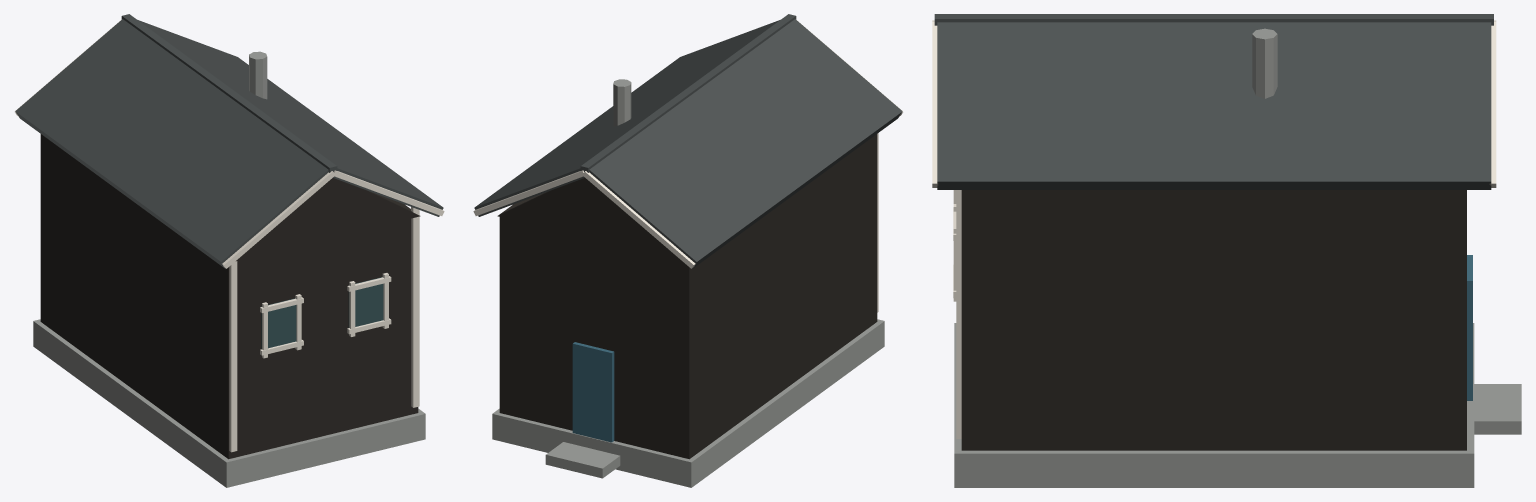
File: norway-house-charcoal-white_lod0.glb
3 renders of one model, left to right at view 1: azimuth 30°, elevation 25°; view 2: azimuth 150°, elevation 25°; view 3: azimuth 270°, elevation 25°, orthographic. The views are drawn at different scales.
Parts seen in each view (by area): view 1: RF_House_Walls, RF_House_RoofA, RF_House_Foundation, RF_House_RoofB, RF_House_Gables, RF_House_RidgeCap, RF_House_Corner.001, RF_House_Corner, RF_House_WindowRecess.001, RF_House_WindowRecess, RF_House_VergeLeftFront, RF_House_Chimney (+1 smaller); view 2: RF_House_Walls, RF_House_RoofA, RF_House_Foundation, RF_House_RoofB, RF_House_Gables, RF_House_Door, RF_House_RidgeCap, RF_House_Threshold, RF_House_VergeLeftRear, RF_House_Chimney, RF_House_VergeRightRear; view 3: RF_House_Walls, RF_House_RoofB, RF_House_Foundation, RF_House_RidgeCap, RF_House_Threshold, RF_House_Chimney, RF_House_Corner.001, RF_House_VergeRightRear, RF_House_VergeRightFront, RF_House_Door.
Part boxes in pixels (x1=…): RF_House_Walls: x1=40, y1=134, x2=418, y2=459; RF_House_RoofA: x1=15, y1=19, x2=328, y2=268; RF_House_Foundation: x1=33, y1=319, x2=425, y2=487; RF_House_RoofB: x1=138, y1=20, x2=443, y2=216; RF_House_Gables: x1=236, y1=178, x2=420, y2=261; RF_House_RidgeCap: x1=121, y1=14, x2=337, y2=172; RF_House_Corner.001: x1=411, y1=207, x2=419, y2=407; RF_House_Corner: x1=229, y1=261, x2=237, y2=452; RF_House_WindowRecess.001: x1=348, y1=277, x2=383, y2=327; RF_House_WindowRecess: x1=261, y1=298, x2=296, y2=349; RF_House_VergeLeftFront: x1=222, y1=171, x2=334, y2=268; RF_House_Chimney: x1=249, y1=51, x2=267, y2=99; RF_House_Walls: x1=499, y1=134, x2=877, y2=459; RF_House_RoofA: x1=589, y1=19, x2=902, y2=268; RF_House_Foundation: x1=492, y1=319, x2=884, y2=487; RF_House_RoofB: x1=474, y1=20, x2=779, y2=216; RF_House_Gables: x1=497, y1=178, x2=681, y2=261; RF_House_Door: x1=572, y1=342, x2=614, y2=442; RF_House_RidgeCap: x1=580, y1=14, x2=796, y2=172; RF_House_Threshold: x1=545, y1=442, x2=620, y2=478; RF_House_VergeLeftRear: x1=582, y1=171, x2=695, y2=268; RF_House_Chimney: x1=613, y1=79, x2=631, y2=126; RF_House_VergeRightRear: x1=473, y1=170, x2=584, y2=215; RF_House_Walls: x1=961, y1=190, x2=1466, y2=450; RF_House_RoofB: x1=937, y1=22, x2=1491, y2=189; RF_House_Foundation: x1=954, y1=323, x2=1474, y2=487; RF_House_RidgeCap: x1=934, y1=14, x2=1493, y2=25; RF_House_Threshold: x1=1474, y1=384, x2=1521, y2=434; RF_House_Chimney: x1=1252, y1=28, x2=1277, y2=98; RF_House_Corner.001: x1=956, y1=190, x2=961, y2=438; RF_House_VergeRightRear: x1=1489, y1=22, x2=1496, y2=187; RF_House_VergeRightFront: x1=932, y1=22, x2=937, y2=187; RF_House_Door: x1=1467, y1=255, x2=1472, y2=400.
Size of the model in its own units: 8.21 by 11 by 14.
